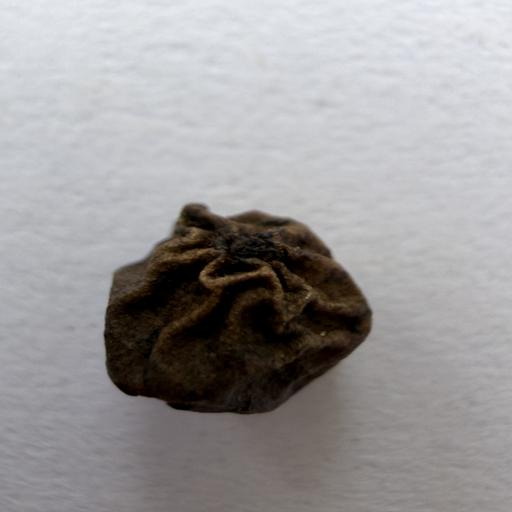Black_pepper: (76, 188, 382, 423)
